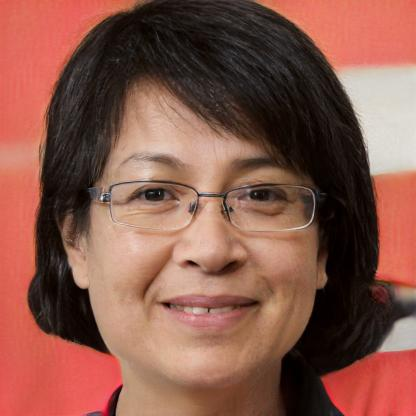glasses: (97, 176, 319, 238)
